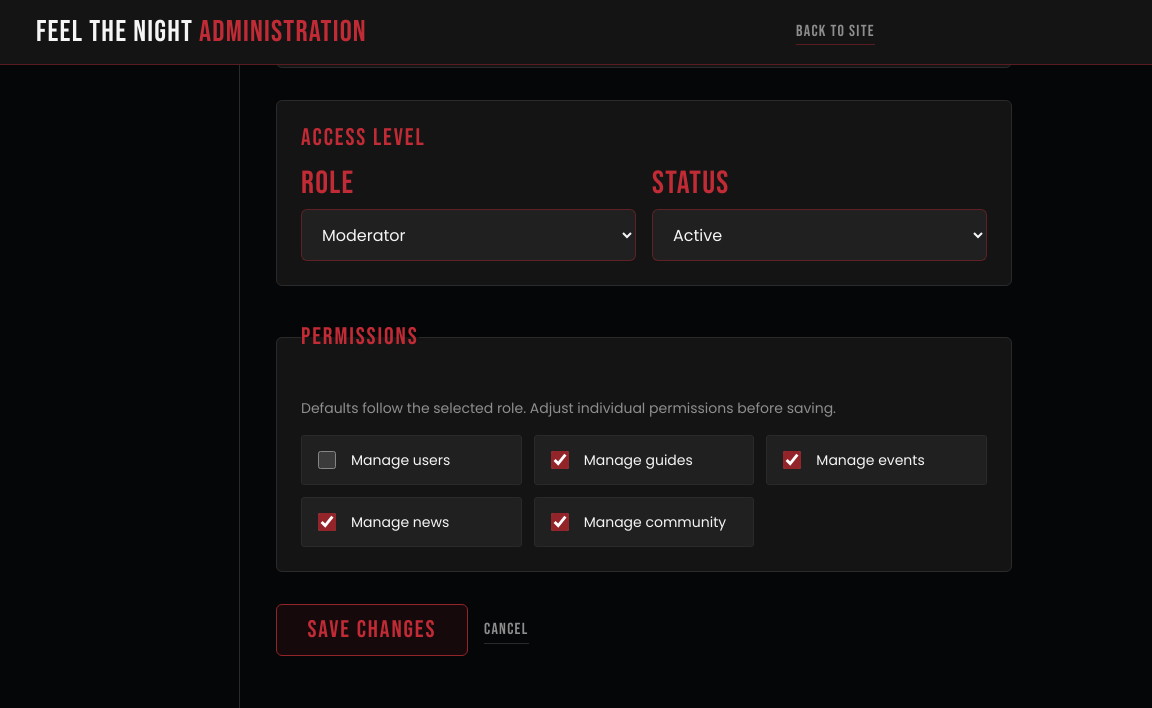
Test case: edit user › saves nothing and says so
(page scrolled)
Step 1. Click the button "Save changes" → {"x": 372, "y": 630}, box [276, 604, 468, 656]
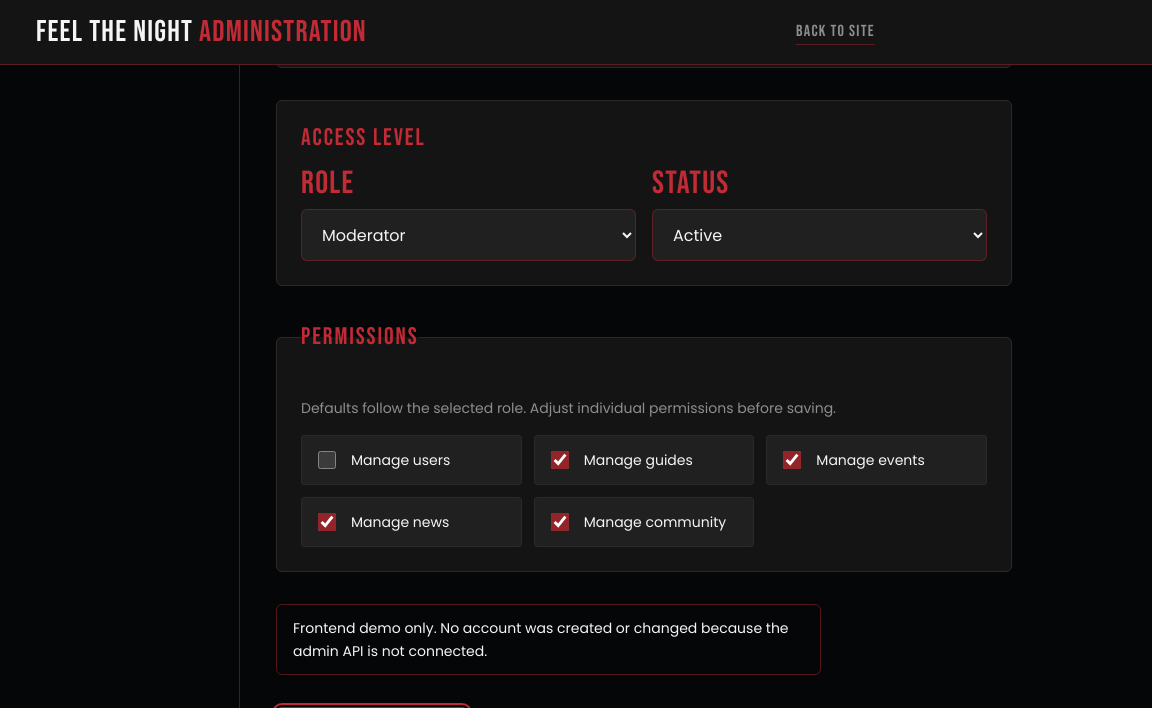
Expected: the message shows "admin api is not connected", [293, 618, 788, 661]
